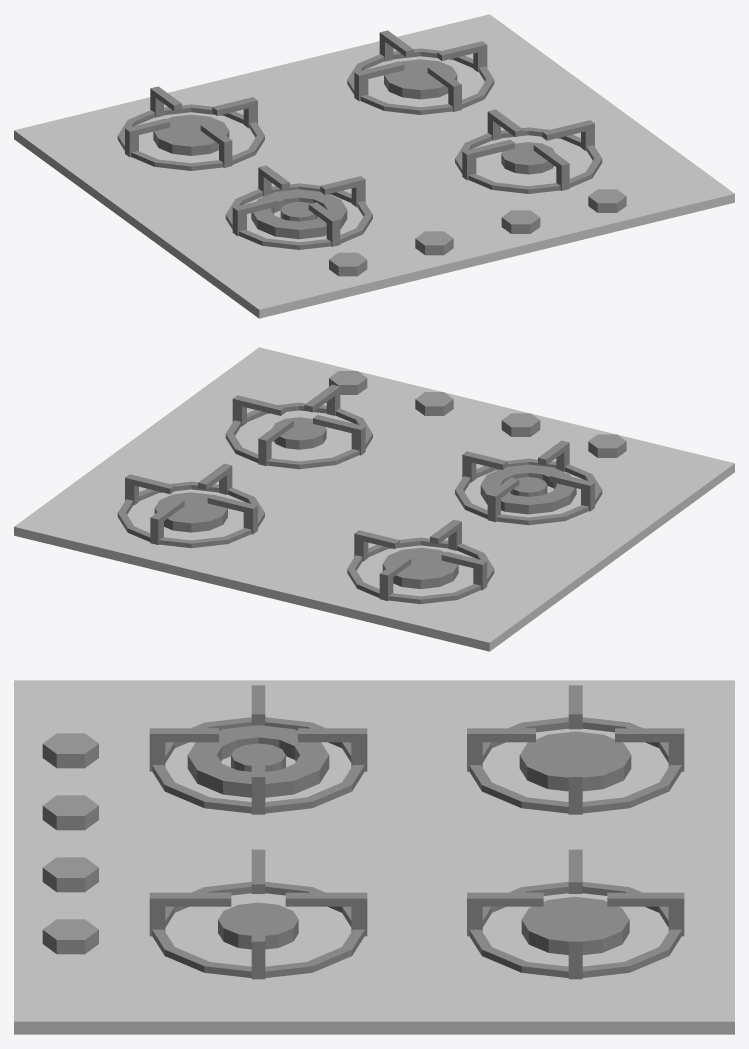
File: Hob1_C2.fbx
3 views of the same model, one above another, from view 1: azimuth 30°, elevation 25°; view 2: azimuth 150°, elevation 25°; view 3: azimuth 270°, elevation 25° (orthographic). The views are drawn at different scales.
Parts seen in each view (by area): view 1: Hob1_C2; view 2: Hob1_C2; view 3: Hob1_C2.
Part boxes in pixels (left/top/right/bottom): Hob1_C2: left=14, top=14, right=734, bottom=318; Hob1_C2: left=14, top=347, right=734, bottom=651; Hob1_C2: left=14, top=680, right=734, bottom=1034.
Bounding box in the file's own units: 56 × 3.87 × 50.
